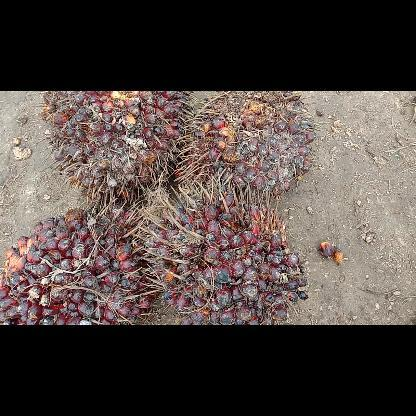TBS masak: (137, 174, 307, 324), (0, 198, 156, 324), (40, 91, 192, 209), (178, 91, 318, 201)
